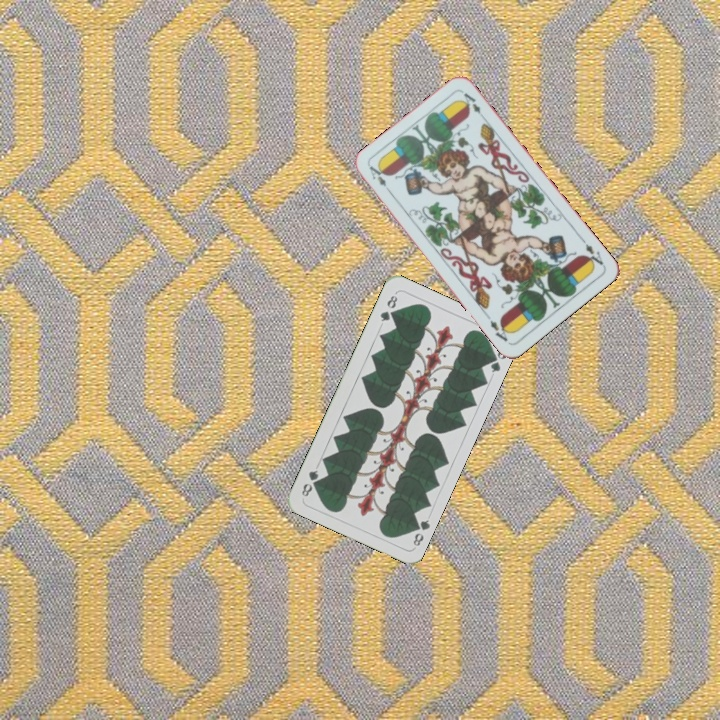EA: (577, 234, 606, 270), (365, 161, 389, 189)
G8: (408, 515, 432, 549), (376, 291, 400, 324)
